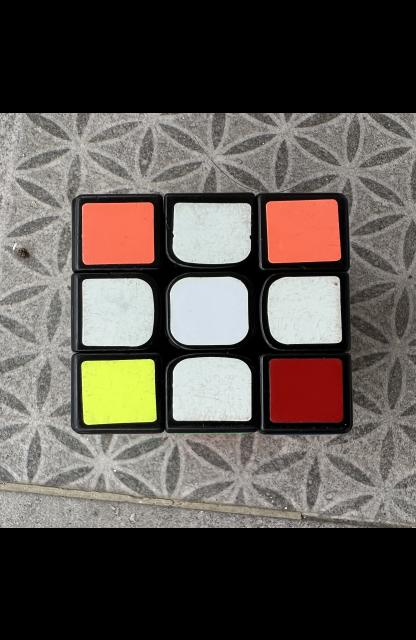Orange: (266, 199, 340, 263), (82, 201, 154, 264)
Red: (269, 357, 343, 422)
White: (169, 276, 249, 345), (172, 356, 252, 421), (267, 276, 342, 344), (82, 277, 154, 346), (173, 202, 252, 264)
Yellow: (80, 358, 157, 424)
